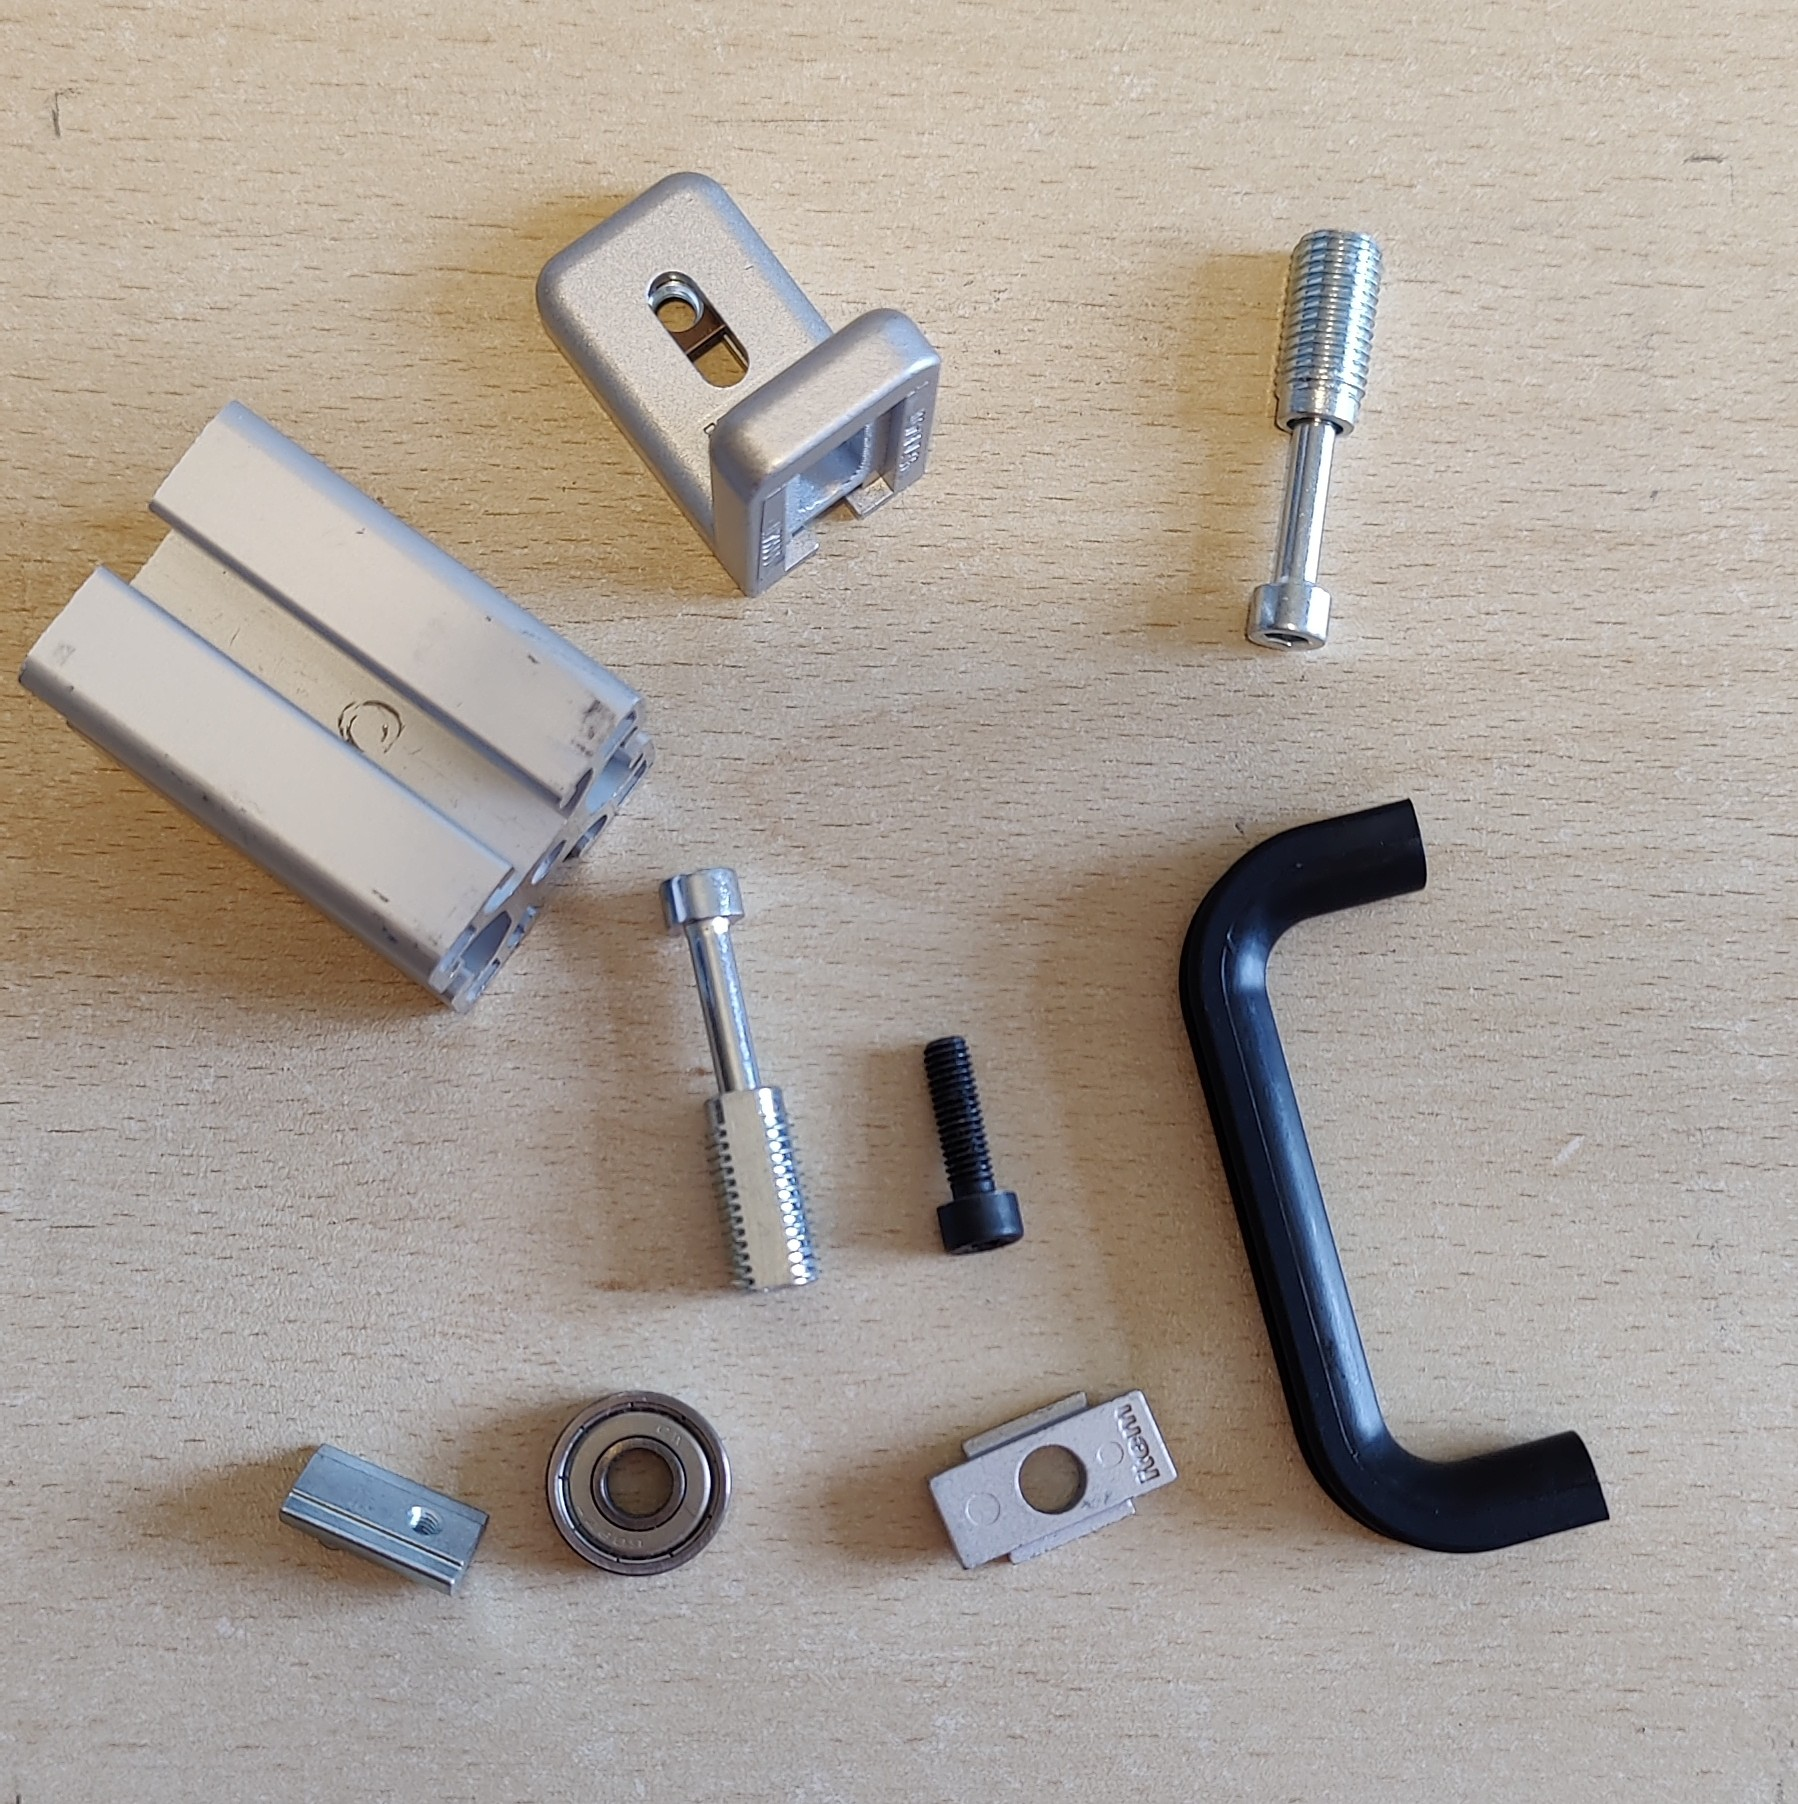Aluminium Extension: (15, 398, 660, 1017)
Ball Bearing: (542, 1388, 733, 1580)
Multiwinkel: (533, 170, 942, 602)
Pull Handle: (1176, 793, 1615, 1559)
Shoulder Socket Head Cap Screw: (657, 864, 827, 1297), (1241, 229, 1388, 655)
Socket Head Cap Screw: (919, 1030, 1027, 1258)
T Nut Square: (922, 1379, 1179, 1575)
T Spring Nut: (277, 1444, 492, 1600)
